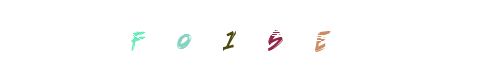1: (202, 0, 282, 80)
E: (256, 0, 336, 80)
F: (125, 0, 205, 80)
O: (189, 0, 269, 80)
S: (234, 0, 314, 80)
